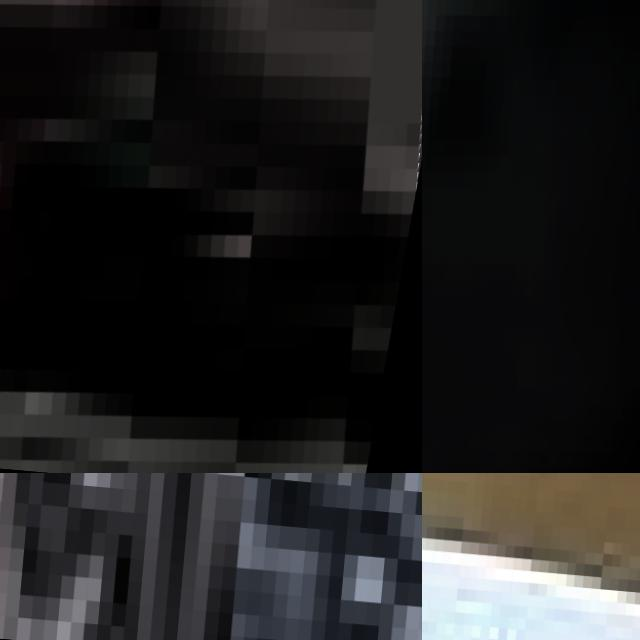drone: (0, 0, 422, 473), (422, 0, 640, 473)
